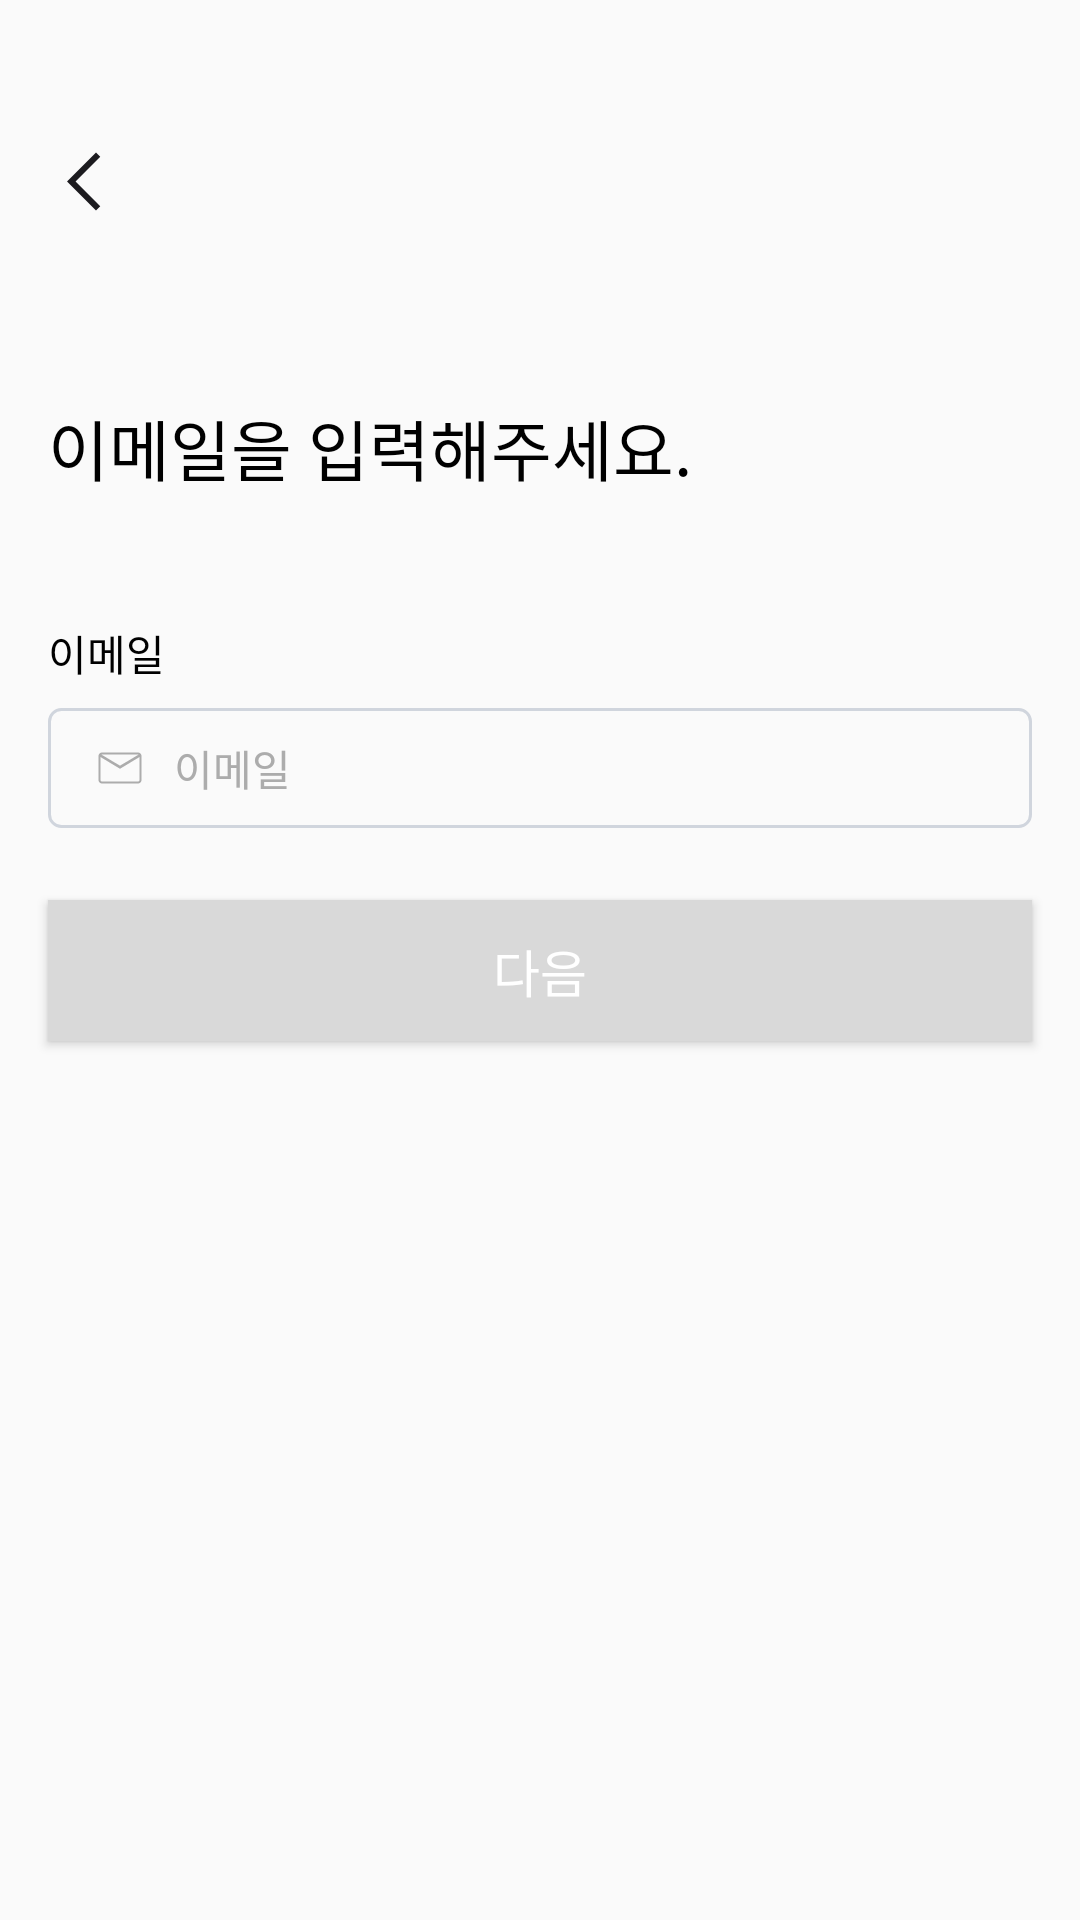

Locate icon controls on the screen. Image size 1080px x 1920px, boxes as (x1, y1, x2, y2).
arrow back: (67, 152, 100, 211)
